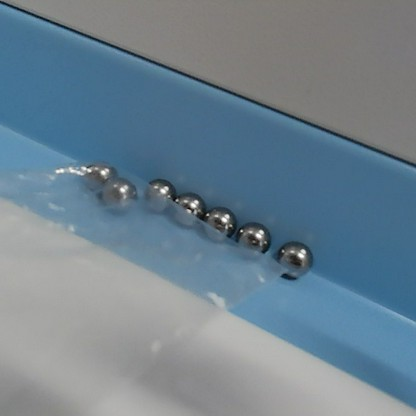ironball: (233, 215, 275, 263), (269, 235, 312, 278), (198, 203, 238, 244), (99, 178, 141, 212), (143, 175, 177, 211), (170, 190, 202, 228), (79, 161, 121, 186)
